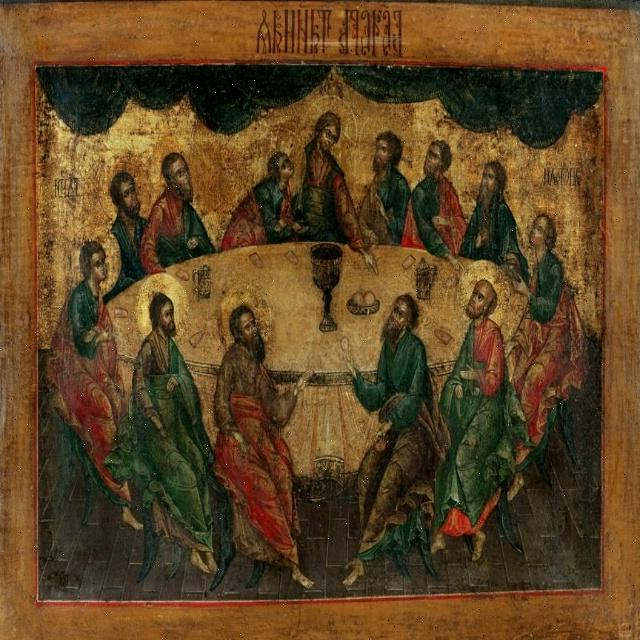aura: (136, 270, 193, 349), (62, 220, 125, 291), (214, 280, 274, 354), (150, 131, 207, 206), (304, 92, 363, 164), (454, 261, 513, 332), (360, 109, 416, 179), (470, 130, 522, 199), (254, 128, 308, 193)
bread: (348, 284, 384, 329), (438, 322, 453, 349), (193, 324, 207, 351), (116, 302, 131, 323), (177, 266, 191, 286), (288, 248, 300, 271), (402, 252, 416, 270), (251, 251, 261, 272)
chalice: (311, 241, 347, 341)
christ: (294, 86, 374, 273)
cup: (414, 255, 441, 299), (194, 256, 214, 311)
saint: (213, 282, 308, 594), (438, 261, 523, 569), (354, 294, 443, 568), (48, 212, 128, 492), (516, 191, 597, 461), (140, 272, 213, 562), (144, 128, 220, 286), (224, 122, 306, 252), (402, 133, 473, 266), (100, 146, 154, 295), (463, 154, 530, 272), (364, 112, 418, 240)
